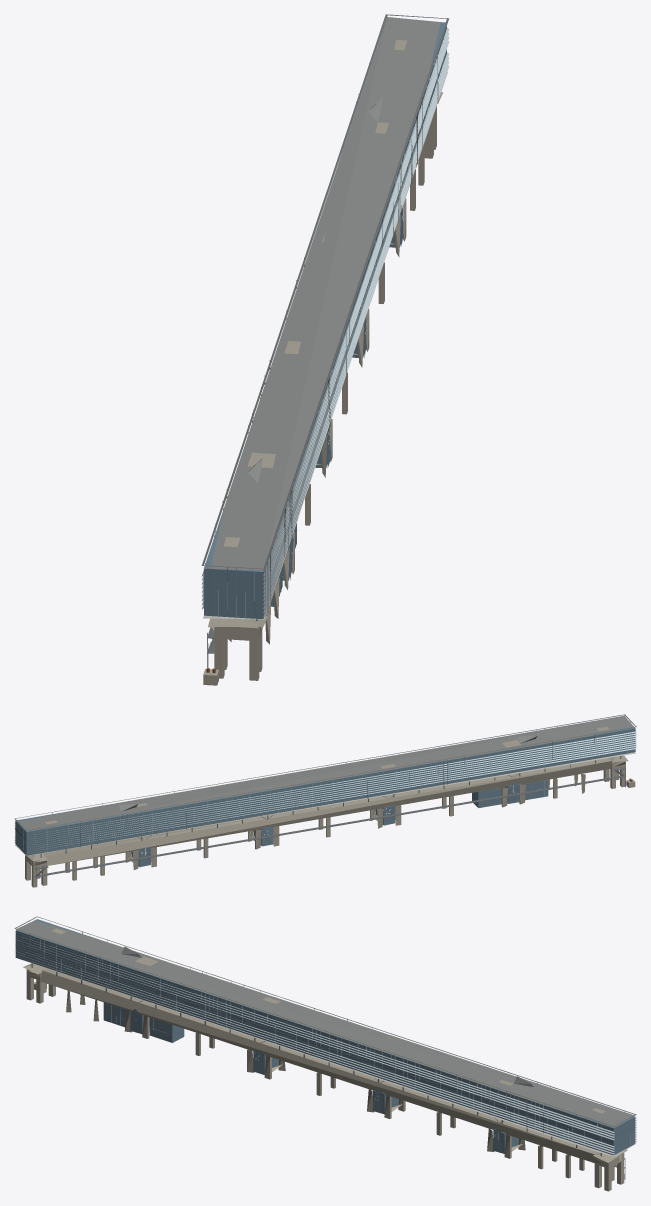
The model's file is kraanspoor.lod1.glb.
The picture shows the model from 3 angles, top to bottom: view 1: azimuth 30°, elevation 25°; view 2: azimuth 150°, elevation 25°; view 3: azimuth 270°, elevation 25°; orthographic projection. The views are drawn at different scales.
Parts seen in each view (by area): view 1: kraanspoor; view 2: kraanspoor; view 3: kraanspoor.
Boxes of the visible parts, x1,y1,x2,y2 form: kraanspoor: (201,14,449,685); kraanspoor: (14,714,636,887); kraanspoor: (14,916,636,1191).
Bounding box in the file's own units: 171 × 28.07 × 214.
